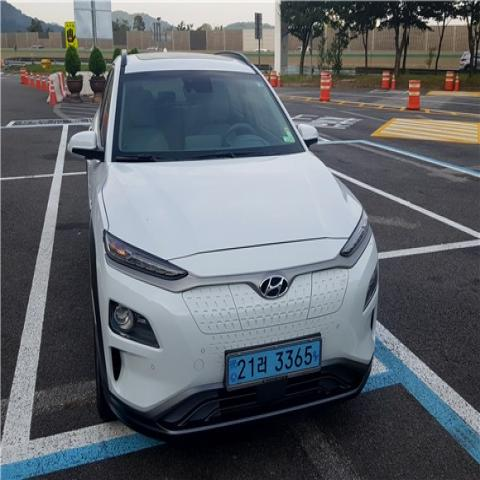LP: (225, 328, 324, 396)
